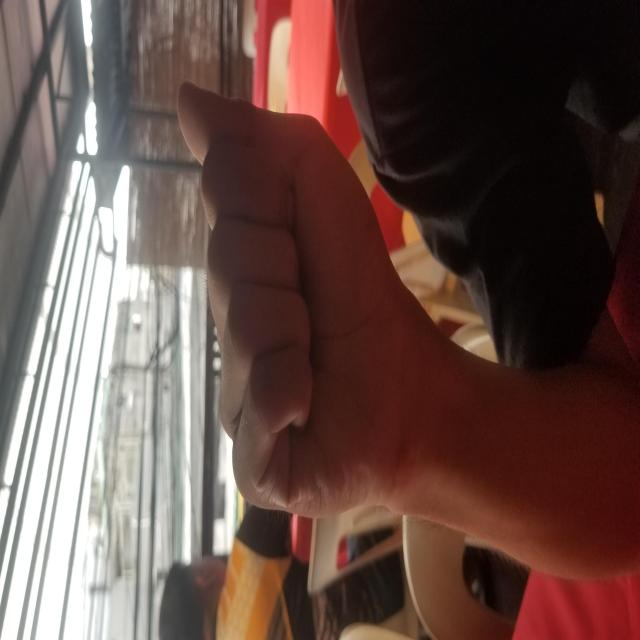A: (119, 175, 565, 409)
